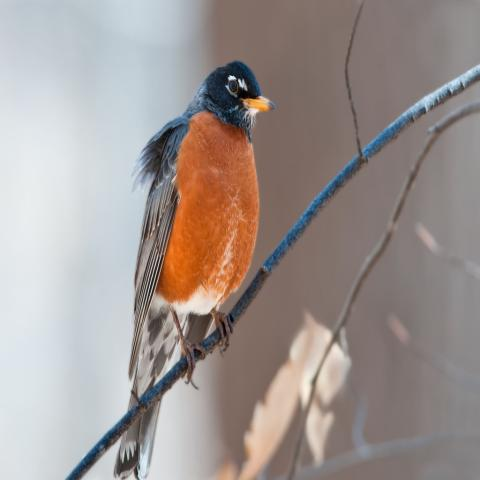bird: (113, 58, 276, 476)
